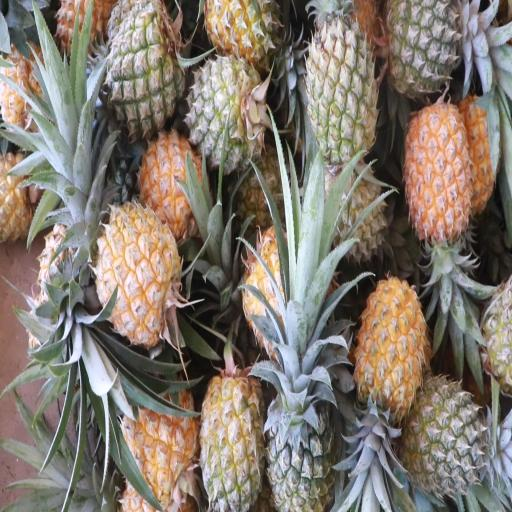Pineapple - v8 v1: (96, 201, 188, 357), (354, 274, 429, 425), (402, 102, 473, 255), (199, 371, 270, 512), (138, 134, 214, 254), (206, 4, 292, 88)
